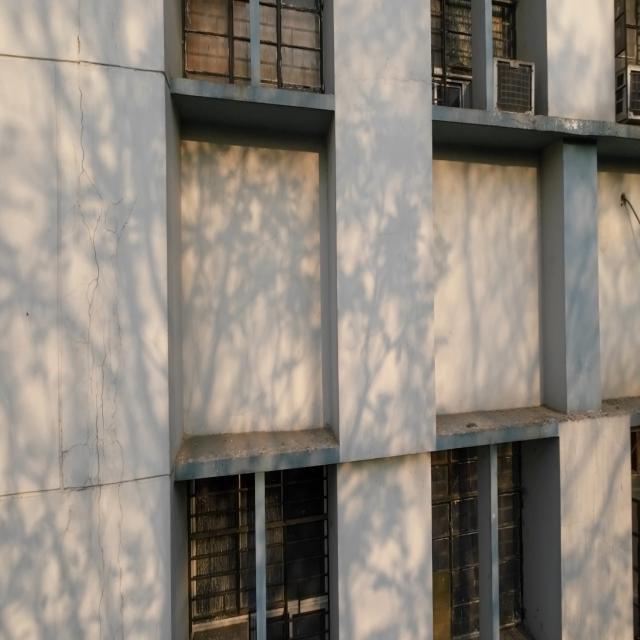crack: (62, 7, 138, 639)
